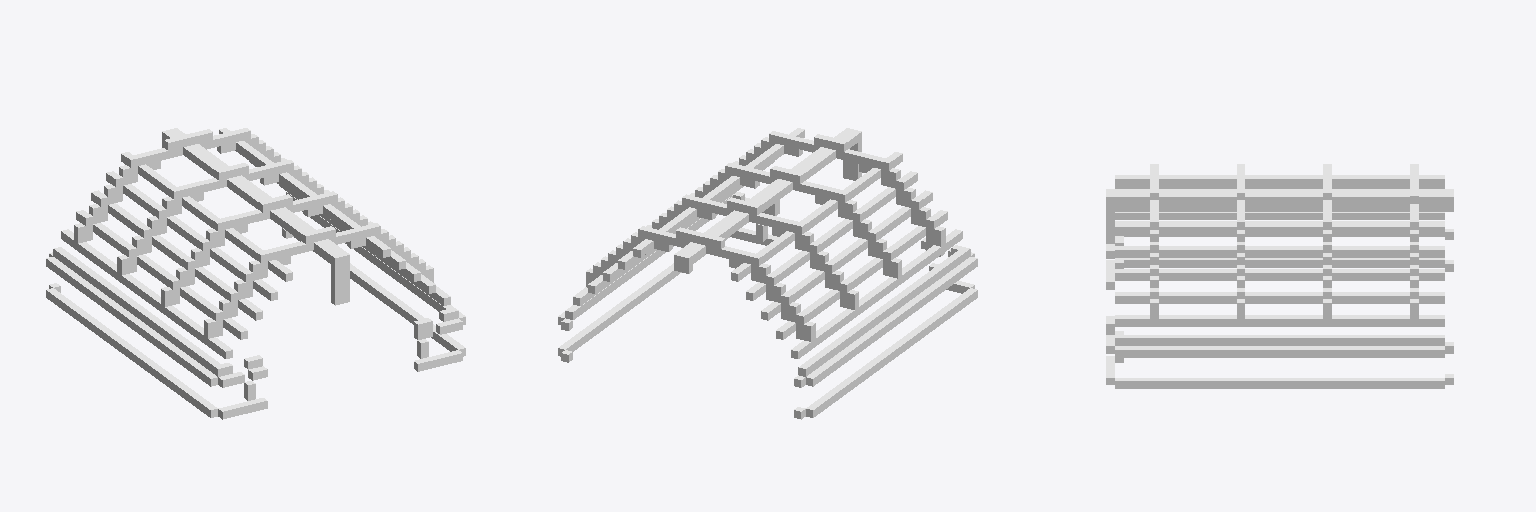
File: MejoraKanyon.obj
3 views of the same model, side by side, from view 1: azimuth 30°, elevation 25°; view 2: azimuth 150°, elevation 25°; view 3: azimuth 270°, elevation 25° (orthographic).
Visible parts, largest first — view 1: object 1; view 2: object 1; view 3: object 1.
Part boxes in pixels (bbox=[...]): object 1: bbox=[46, 128, 465, 419]; object 1: bbox=[558, 128, 977, 419]; object 1: bbox=[1106, 164, 1453, 388].
Size of the model in its own units: 3.4 by 1.8 by 4.